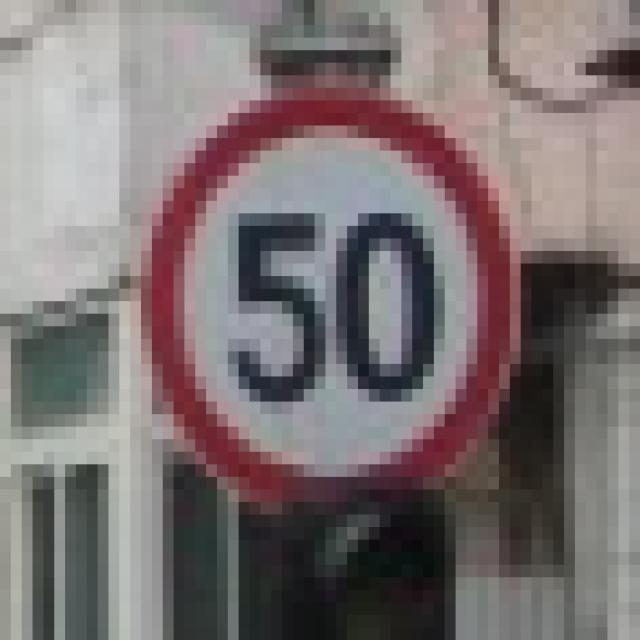Speed Limit -50-: (226, 207, 444, 413)
